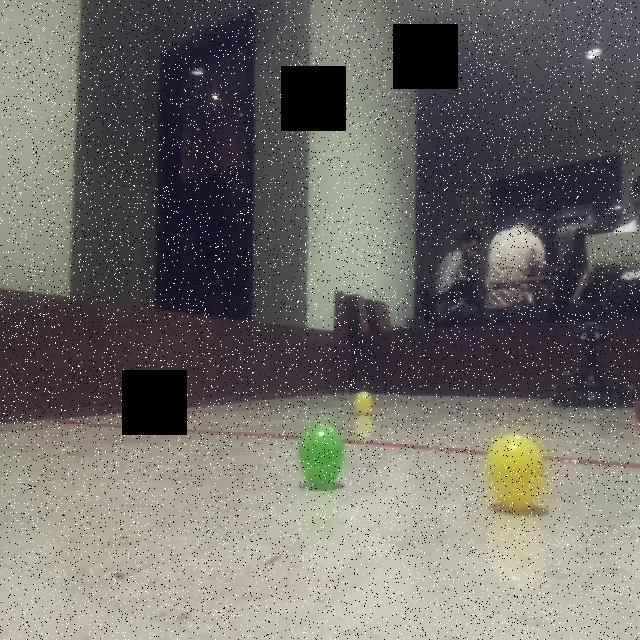ball: (484, 428, 550, 515), (297, 421, 347, 491), (350, 388, 378, 417)
